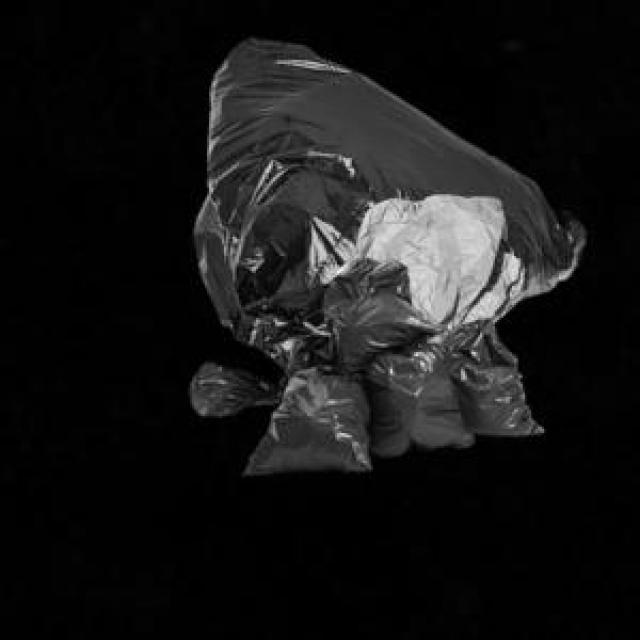miscellaneous trash: (186, 34, 580, 412), (239, 254, 540, 472)
paper: (350, 192, 518, 339)
